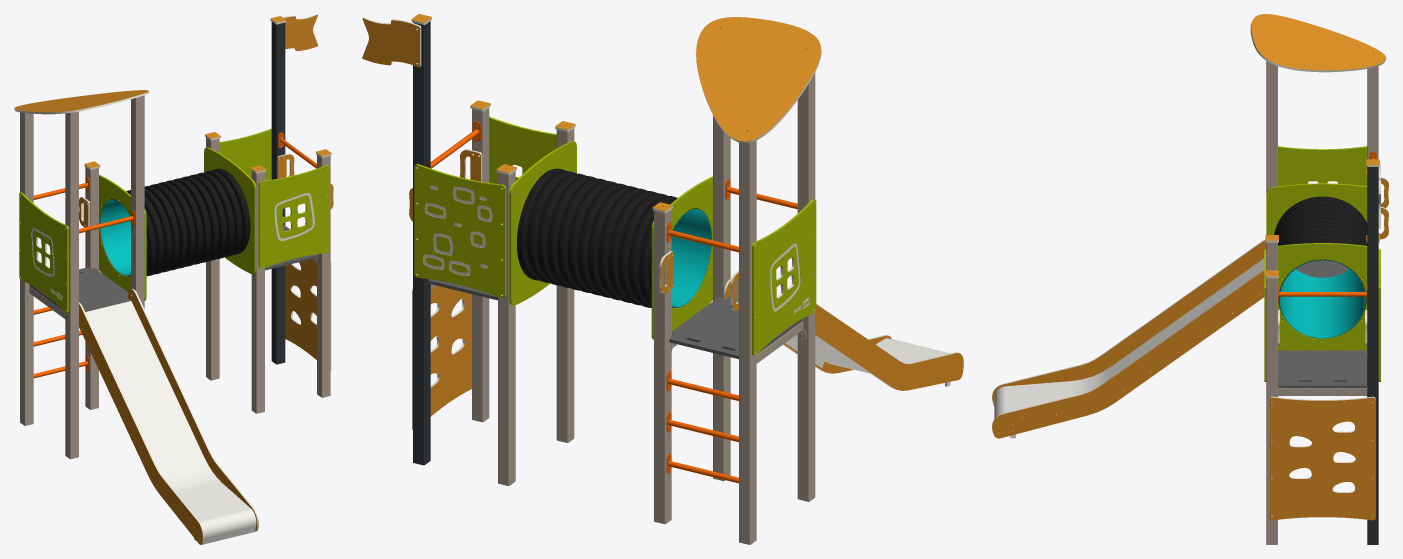
File: FLFJ014_D_3d_OBJ_20260804.obj
The picture shows the model from 3 angles, left to right: view 1: azimuth 30°, elevation 25°; view 2: azimuth 150°, elevation 25°; view 3: azimuth 270°, elevation 25°; orthographic projection. The views are drawn at different scales.
Visible parts, largest first — view 1: Root|FLFJ014_Eco_kettornyu_jv_1200_D_OSZ|Root|beige_low_gloss_pl, Root|FLFJ014_Eco_kettornyu_jv_1200_D_OSZ|Root|white-pw-mt11050-2, Root|FLFJ014_Eco_kettornyu_jv_1200_D_OSZ|Root|matte_steel, Root|FLFJ014_Eco_kettornyu_jv_1200_D_OSZ|Root|black_spray_paint, Root|FLFJ014_Eco_kettornyu_jv_1200_D_OSZ|Root|-1, Root|FLFJ014_Eco_kettornyu_jv_1200_D_OSZ|Root|-1-1-1, Root|FLFJ014_Eco_kettornyu_jv_1200_D_OSZ|Root|white_low_gloss_pl, Root|FLFJ014_Eco_kettornyu_jv_1200_D_OSZ|Root|dark_grey_low_glos, Root|FLFJ014_Eco_kettornyu_jv_1200_D_OSZ|Root|-1-1_2, Root|FLFJ014_Eco_kettornyu_jv_1200_D_OSZ|Root|light_grey_low_glo, Root|FLFJ014_Eco_kettornyu_jv_1200_D_OSZ|Root|-2, Root|FLFJ014_Eco_kettornyu_jv_1200_D_OSZ|Root|-1-2-2 (+1 smaller); view 2: Root|FLFJ014_Eco_kettornyu_jv_1200_D_OSZ|Root|beige_low_gloss_pl, Root|FLFJ014_Eco_kettornyu_jv_1200_D_OSZ|Root|white-pw-mt11050-2, Root|FLFJ014_Eco_kettornyu_jv_1200_D_OSZ|Root|-1, Root|FLFJ014_Eco_kettornyu_jv_1200_D_OSZ|Root|black_spray_paint, Root|FLFJ014_Eco_kettornyu_jv_1200_D_OSZ|Root|white_low_gloss_pl, Root|FLFJ014_Eco_kettornyu_jv_1200_D_OSZ|Root|-1-1-1, Root|FLFJ014_Eco_kettornyu_jv_1200_D_OSZ|Root|dark_grey_low_glos, Root|FLFJ014_Eco_kettornyu_jv_1200_D_OSZ|Root|-1-1_2, Root|FLFJ014_Eco_kettornyu_jv_1200_D_OSZ|Root|light_grey_low_glo, Root|FLFJ014_Eco_kettornyu_jv_1200_D_OSZ|Root|-1-2-2, Root|FLFJ014_Eco_kettornyu_jv_1200_D_OSZ|Root|matte_steel, Root|FLFJ014_Eco_kettornyu_jv_1200_D_OSZ|Root|white-pw-mt11050-1; view 3: Root|FLFJ014_Eco_kettornyu_jv_1200_D_OSZ|Root|-1, Root|FLFJ014_Eco_kettornyu_jv_1200_D_OSZ|Root|-1-1_2, Root|FLFJ014_Eco_kettornyu_jv_1200_D_OSZ|Root|white-pw-mt11050-2, Root|FLFJ014_Eco_kettornyu_jv_1200_D_OSZ|Root|beige_low_gloss_pl, Root|FLFJ014_Eco_kettornyu_jv_1200_D_OSZ|Root|white_low_gloss_pl, Root|FLFJ014_Eco_kettornyu_jv_1200_D_OSZ|Root|light_grey_low_glo, Root|FLFJ014_Eco_kettornyu_jv_1200_D_OSZ|Root|matte_steel, Root|FLFJ014_Eco_kettornyu_jv_1200_D_OSZ|Root|dark_grey_low_glos, Root|FLFJ014_Eco_kettornyu_jv_1200_D_OSZ|Root|black_spray_paint, Root|FLFJ014_Eco_kettornyu_jv_1200_D_OSZ|Root|-1-1-1, Root|FLFJ014_Eco_kettornyu_jv_1200_D_OSZ|Root|-2.
Boxes of the visible parts, bbox=[...] form: Root|FLFJ014_Eco_kettornyu_jv_1200_D_OSZ|Root|beige_low_gloss_pl: bbox=[20, 95, 330, 459]; Root|FLFJ014_Eco_kettornyu_jv_1200_D_OSZ|Root|white-pw-mt11050-2: bbox=[19, 128, 329, 313]; Root|FLFJ014_Eco_kettornyu_jv_1200_D_OSZ|Root|matte_steel: bbox=[85, 301, 256, 544]; Root|FLFJ014_Eco_kettornyu_jv_1200_D_OSZ|Root|black_spray_paint: bbox=[126, 168, 250, 276]; Root|FLFJ014_Eco_kettornyu_jv_1200_D_OSZ|Root|-1: bbox=[14, 90, 257, 544]; Root|FLFJ014_Eco_kettornyu_jv_1200_D_OSZ|Root|-1-1-1: bbox=[100, 168, 249, 276]; Root|FLFJ014_Eco_kettornyu_jv_1200_D_OSZ|Root|white_low_gloss_pl: bbox=[14, 91, 327, 378]; Root|FLFJ014_Eco_kettornyu_jv_1200_D_OSZ|Root|dark_grey_low_glos: bbox=[271, 22, 285, 364]; Root|FLFJ014_Eco_kettornyu_jv_1200_D_OSZ|Root|-1-1_2: bbox=[79, 154, 333, 359]; Root|FLFJ014_Eco_kettornyu_jv_1200_D_OSZ|Root|light_grey_low_glo: bbox=[29, 224, 318, 311]; Root|FLFJ014_Eco_kettornyu_jv_1200_D_OSZ|Root|-2: bbox=[79, 289, 258, 544]; Root|FLFJ014_Eco_kettornyu_jv_1200_D_OSZ|Root|-1-2-2: bbox=[284, 14, 318, 50]; Root|FLFJ014_Eco_kettornyu_jv_1200_D_OSZ|Root|beige_low_gloss_pl: bbox=[430, 72, 815, 544]; Root|FLFJ014_Eco_kettornyu_jv_1200_D_OSZ|Root|white-pw-mt11050-2: bbox=[414, 116, 816, 355]; Root|FLFJ014_Eco_kettornyu_jv_1200_D_OSZ|Root|-1: bbox=[696, 17, 963, 390]; Root|FLFJ014_Eco_kettornyu_jv_1200_D_OSZ|Root|black_spray_paint: bbox=[517, 168, 677, 307]; Root|FLFJ014_Eco_kettornyu_jv_1200_D_OSZ|Root|white_low_gloss_pl: bbox=[416, 48, 821, 483]; Root|FLFJ014_Eco_kettornyu_jv_1200_D_OSZ|Root|-1-1-1: bbox=[518, 168, 711, 307]; Root|FLFJ014_Eco_kettornyu_jv_1200_D_OSZ|Root|dark_grey_low_glos: bbox=[413, 21, 430, 465]; Root|FLFJ014_Eco_kettornyu_jv_1200_D_OSZ|Root|-1-1_2: bbox=[409, 150, 738, 416]; Root|FLFJ014_Eco_kettornyu_jv_1200_D_OSZ|Root|light_grey_low_glo: bbox=[428, 279, 802, 359]; Root|FLFJ014_Eco_kettornyu_jv_1200_D_OSZ|Root|-1-2-2: bbox=[362, 18, 419, 67]; Root|FLFJ014_Eco_kettornyu_jv_1200_D_OSZ|Root|matte_steel: bbox=[785, 334, 950, 386]; Root|FLFJ014_Eco_kettornyu_jv_1200_D_OSZ|Root|white-pw-mt11050-1: bbox=[411, 14, 673, 213]; Root|FLFJ014_Eco_kettornyu_jv_1200_D_OSZ|Root|-1: bbox=[992, 14, 1386, 438]; Root|FLFJ014_Eco_kettornyu_jv_1200_D_OSZ|Root|-1-1_2: bbox=[1269, 178, 1388, 520]; Root|FLFJ014_Eco_kettornyu_jv_1200_D_OSZ|Root|white-pw-mt11050-2: bbox=[1264, 146, 1380, 381]; Root|FLFJ014_Eco_kettornyu_jv_1200_D_OSZ|Root|beige_low_gloss_pl: bbox=[1266, 61, 1378, 544]; Root|FLFJ014_Eco_kettornyu_jv_1200_D_OSZ|Root|white_low_gloss_pl: bbox=[1250, 23, 1385, 338]; Root|FLFJ014_Eco_kettornyu_jv_1200_D_OSZ|Root|light_grey_low_glo: bbox=[1278, 260, 1367, 388]; Root|FLFJ014_Eco_kettornyu_jv_1200_D_OSZ|Root|matte_steel: bbox=[994, 258, 1264, 438]; Root|FLFJ014_Eco_kettornyu_jv_1200_D_OSZ|Root|dark_grey_low_glos: bbox=[1367, 167, 1378, 544]; Root|FLFJ014_Eco_kettornyu_jv_1200_D_OSZ|Root|black_spray_paint: bbox=[1274, 196, 1367, 340]; Root|FLFJ014_Eco_kettornyu_jv_1200_D_OSZ|Root|-1-1-1: bbox=[1274, 196, 1367, 338]; Root|FLFJ014_Eco_kettornyu_jv_1200_D_OSZ|Root|-2: bbox=[992, 239, 1265, 426].
Bounding box in the file's own units: 2.77 × 3 × 2.75.
